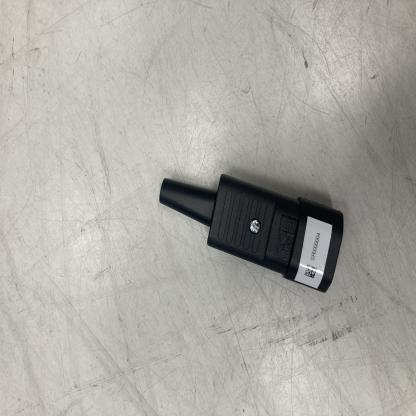SP0000004: (120, 91, 390, 339)
